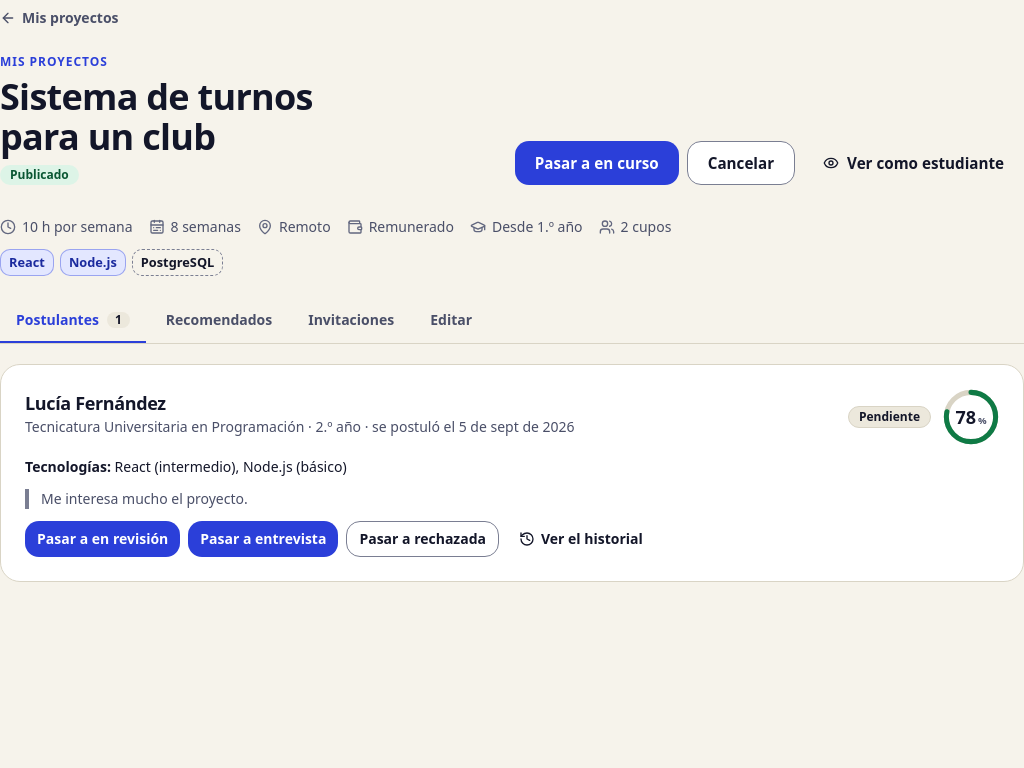
Test case: GestionProyectoPage › edita el proyecto y no permite editar uno finalizado
Later steps or results of the test are not shown.
Click the tab "Editar".
click(451, 322)  # box [414, 300, 488, 344]
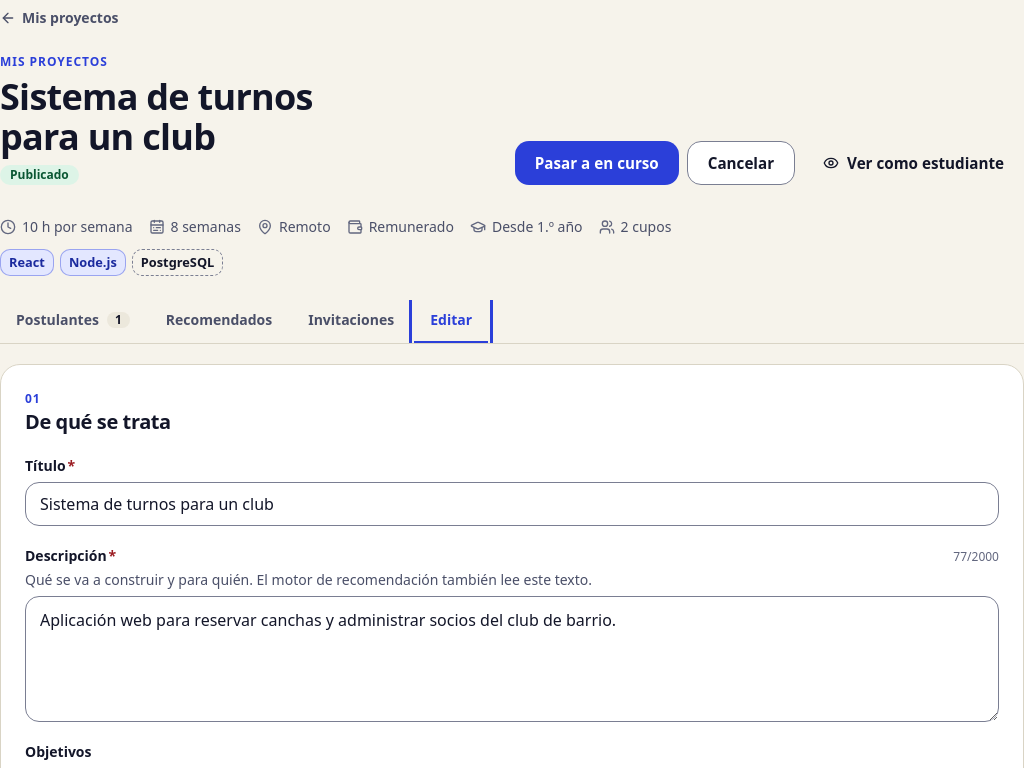
Check: the field labelled "Título*" holds "Sistema de turnos para un club", box [25, 482, 999, 526]
